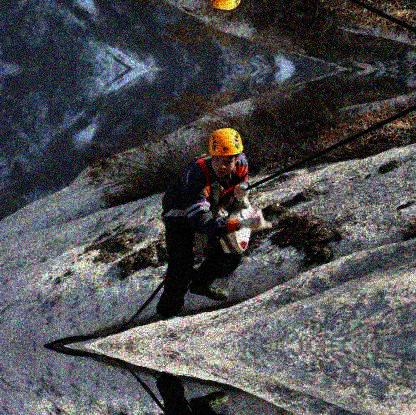helmet: (205, 128, 245, 177)
